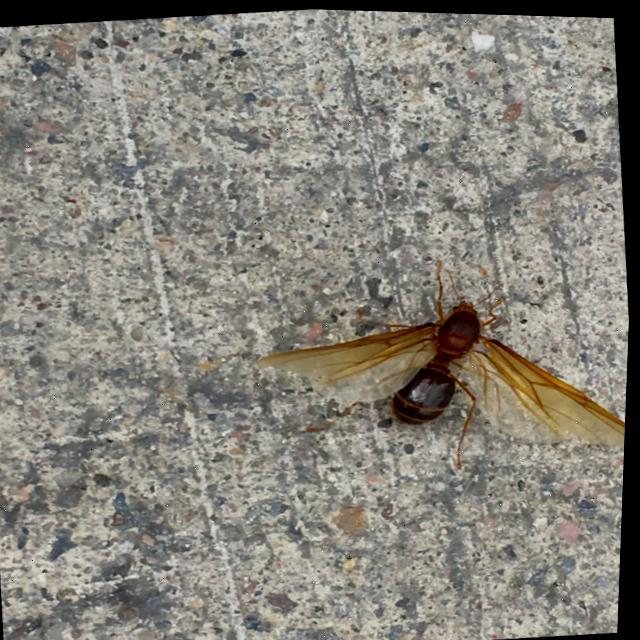Alive-Male-Alate: (245, 234, 633, 486)
